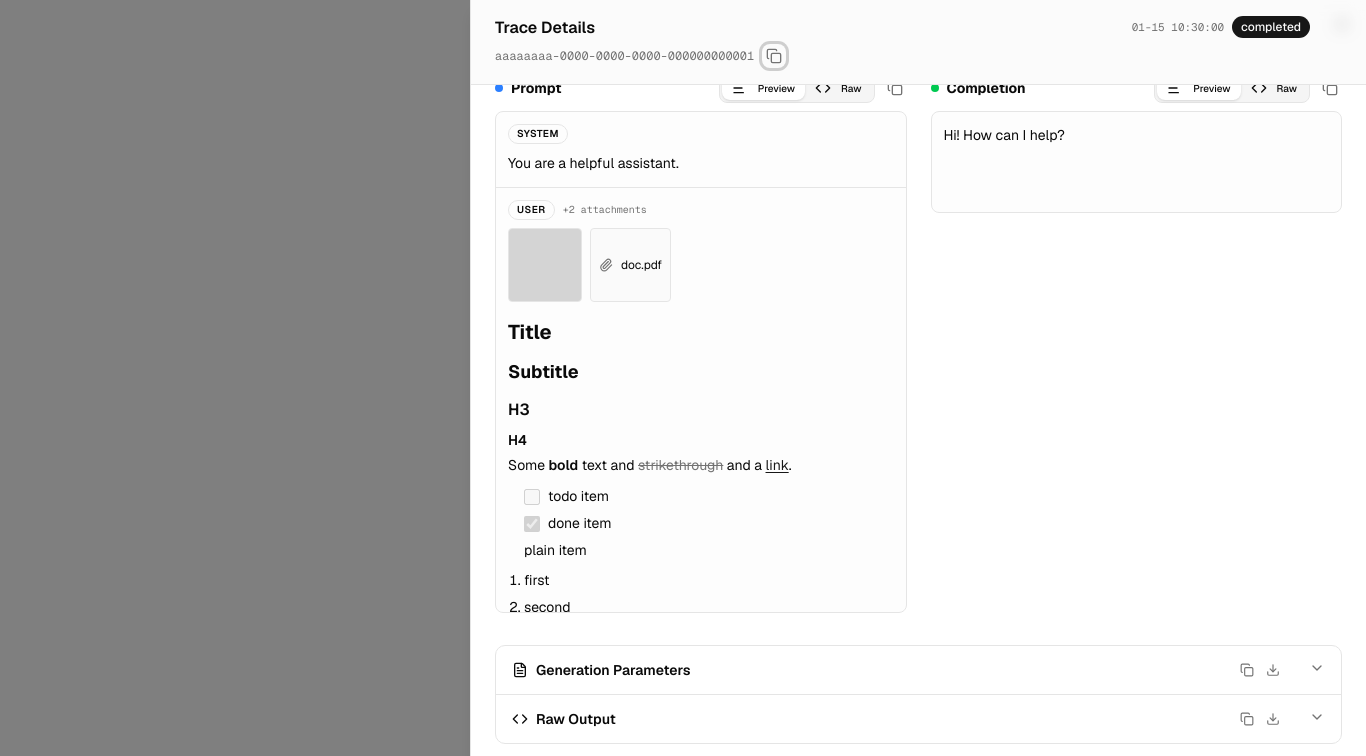
Test: LogDetails – with data › accordion: Generation Parameters panel opens on click and shows ReactJson
(page scrolled)
Click the button "Generation Parameters".
click(613, 670)  # box [512,646,1325,694]
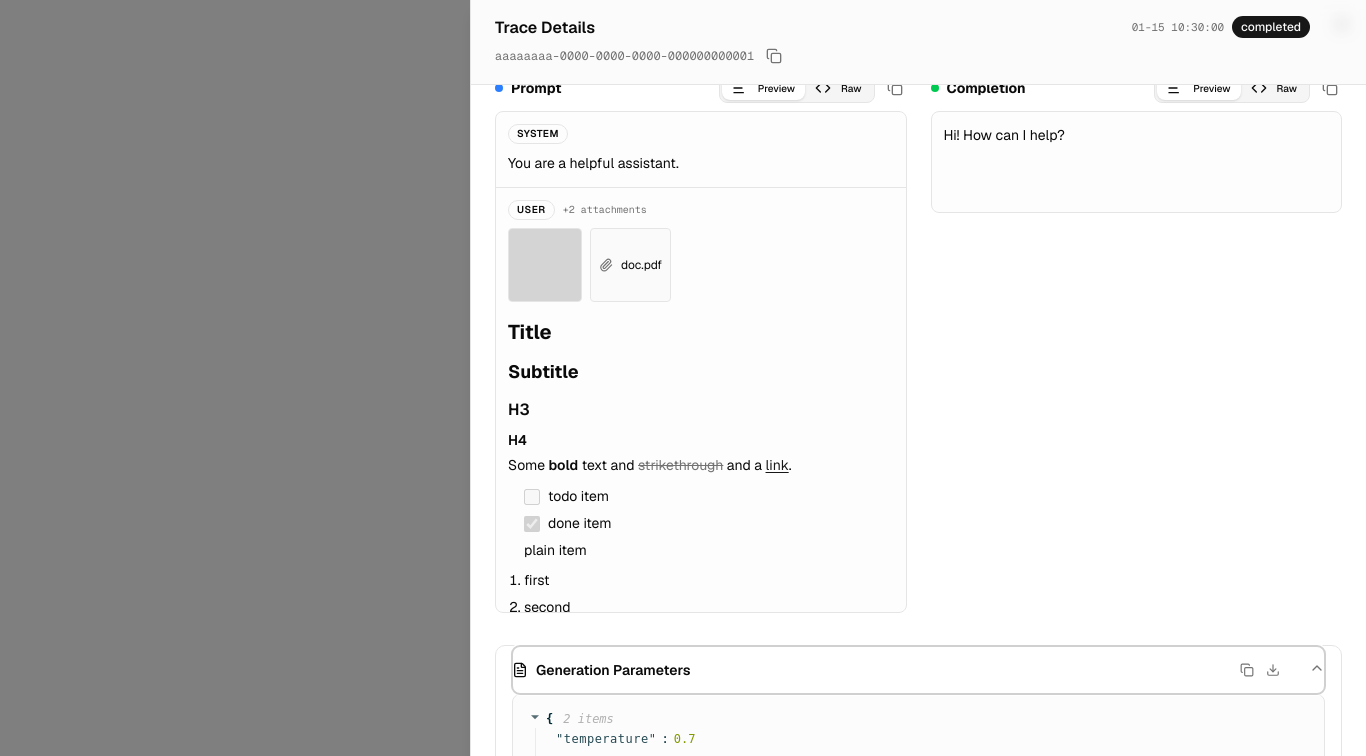
expect the text "temperature" is shown: met, box [564,731,649,748]
